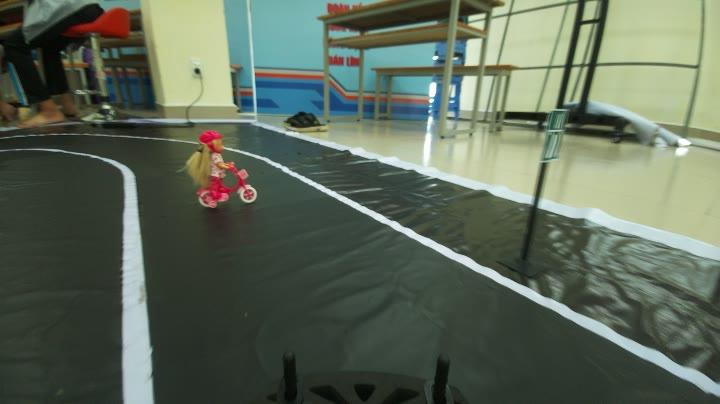highway_entry: (526, 102, 578, 172)
pedestrian: (176, 129, 266, 204)
